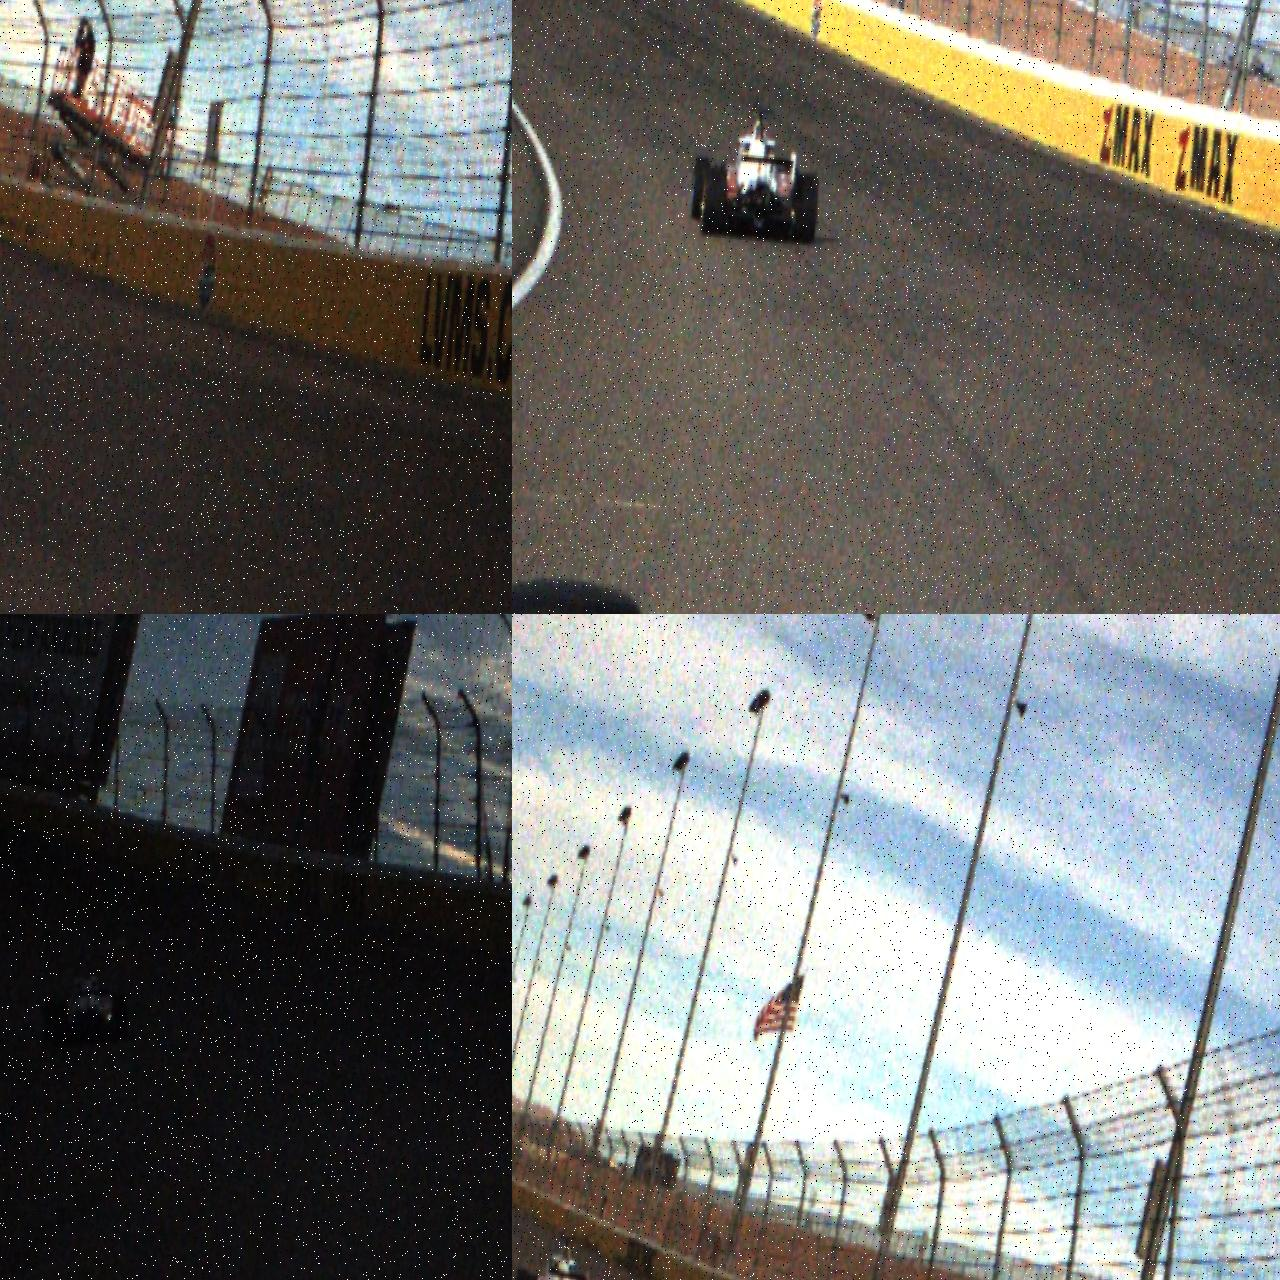AV: (688, 100, 826, 245), (43, 961, 134, 1053), (512, 1229, 612, 1280)
Wheel: (700, 164, 729, 236), (791, 173, 820, 245), (690, 156, 711, 220), (111, 994, 131, 1044), (50, 998, 68, 1044)
